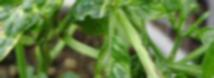Tomato leaf mosaic virus: (0, 0, 75, 78), (95, 36, 140, 78), (122, 0, 182, 25)
